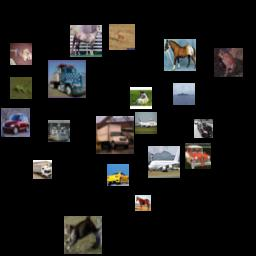airplane: (148, 146, 180, 178), (135, 112, 157, 134)
automobile: (1, 108, 30, 137), (185, 143, 211, 169), (107, 164, 129, 186), (194, 119, 213, 138)
cat: (64, 216, 102, 254)
deer: (109, 24, 135, 50)
dog: (10, 43, 32, 65)
frog: (214, 48, 243, 77), (10, 77, 32, 99)
ship: (48, 120, 70, 142), (173, 83, 195, 105)
truck: (96, 116, 134, 154), (48, 60, 86, 98), (33, 160, 52, 179)
